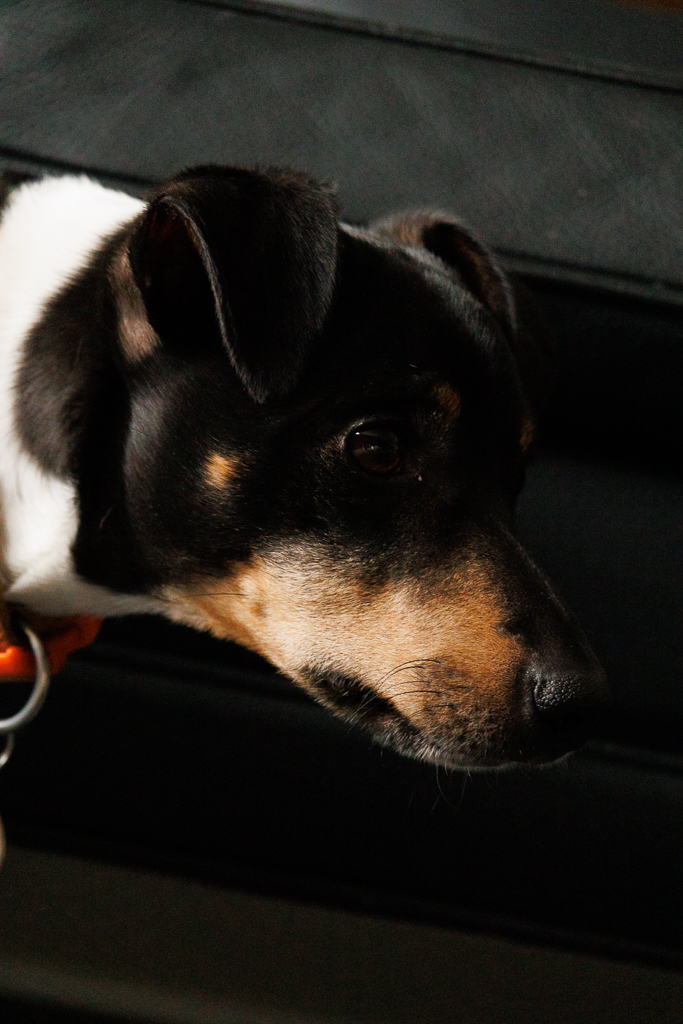Dog: (0, 142, 639, 805)
